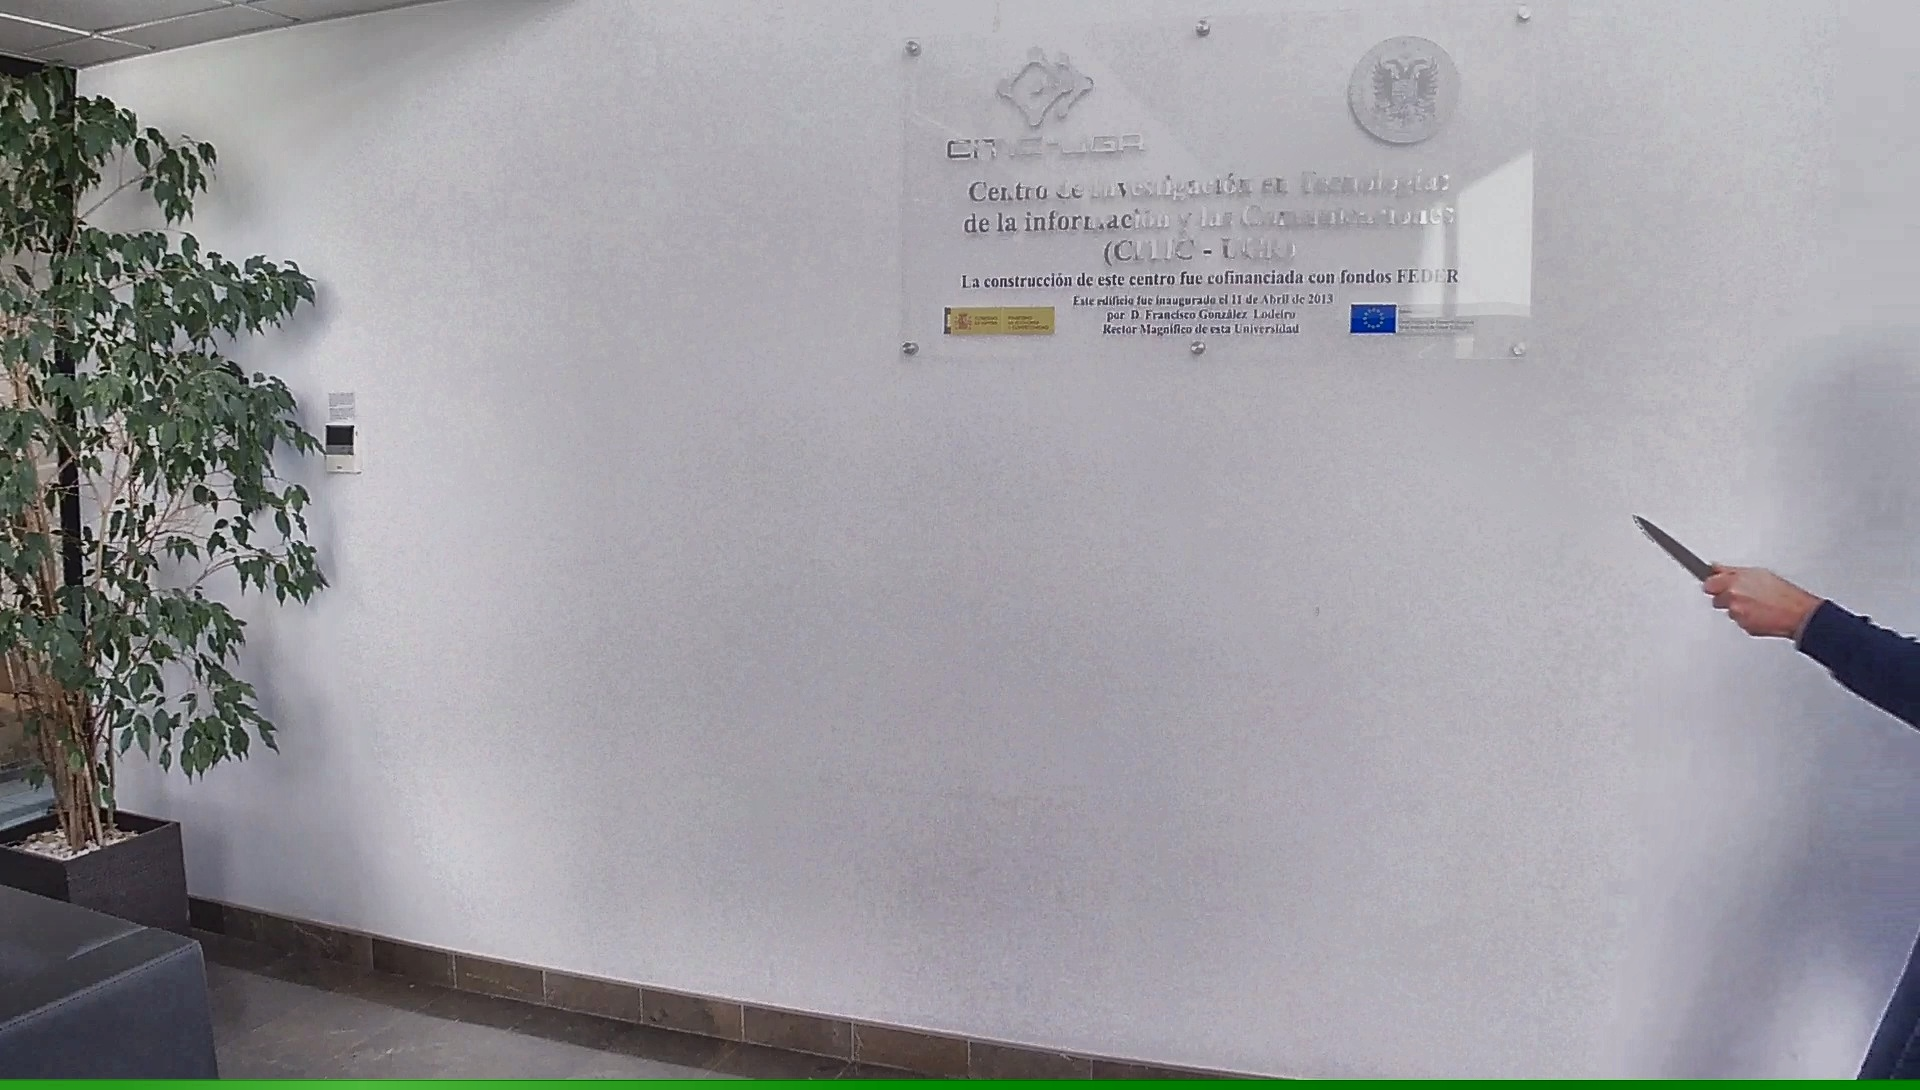knife: (1627, 506, 1764, 633)
